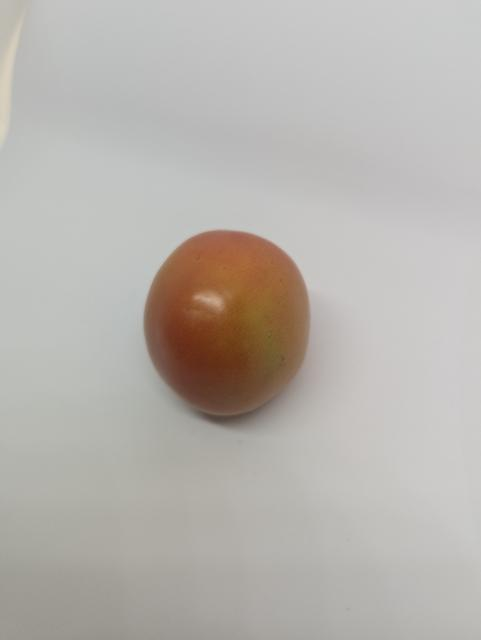turning: (135, 220, 328, 428)
